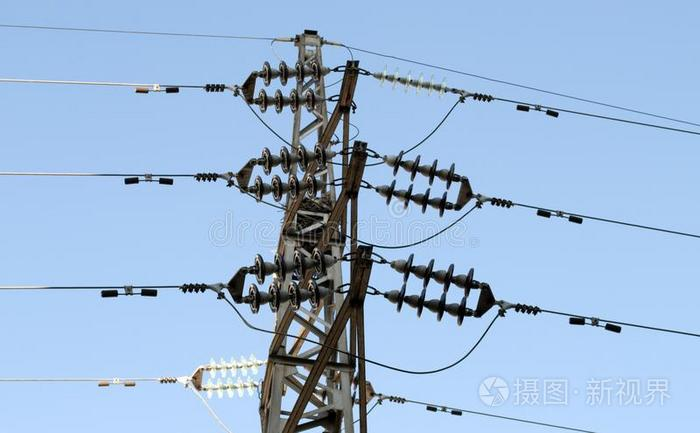insulator: (388, 251, 475, 326), (245, 246, 331, 313), (385, 147, 459, 216), (251, 143, 331, 200), (255, 58, 326, 115), (203, 351, 262, 398), (375, 65, 452, 96)
